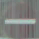No entry: (4, 2, 38, 37)
